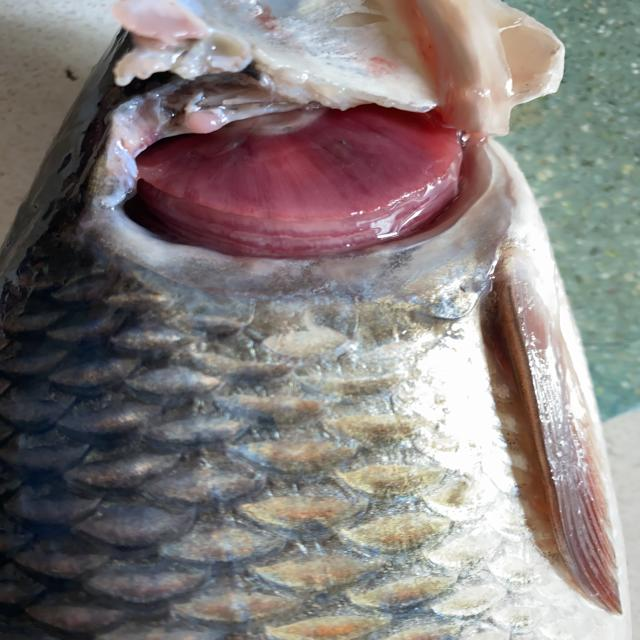Fresh: (87, 78, 513, 287)
